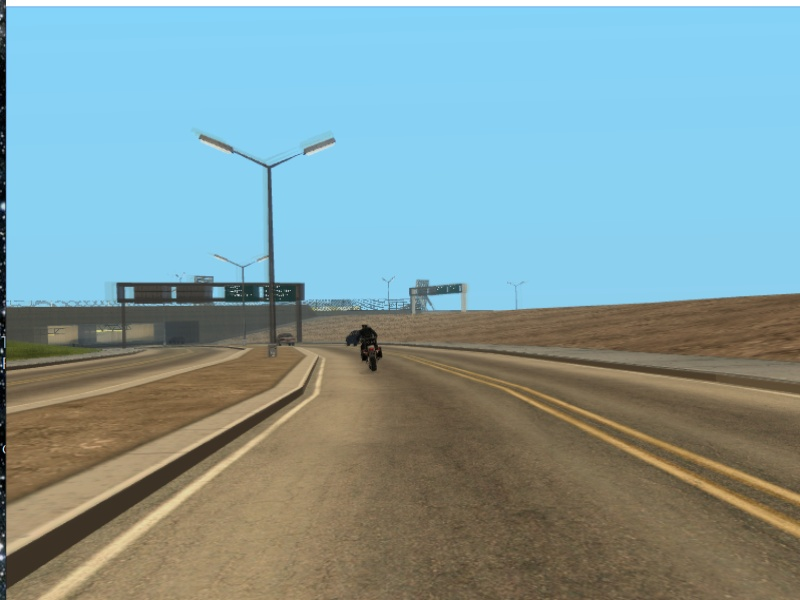pole: (262, 165, 285, 359), (119, 301, 132, 351), (240, 267, 248, 343), (295, 300, 305, 346)
vehicle: (357, 323, 385, 374), (276, 330, 298, 349)
